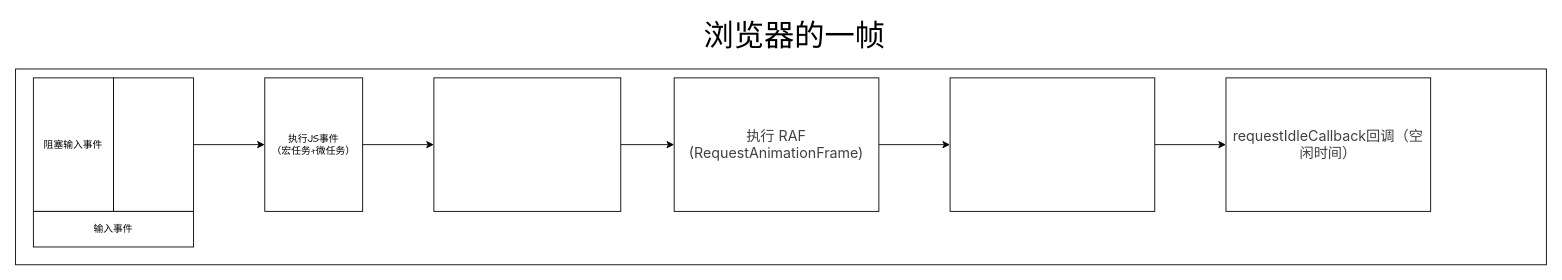
This 1562x280 diagram has some shape labels left out. Here are the shapes that lost their labels. From the top down, the centre of each, then its label:
[153,144]: 非阻塞输入事件
[527,144]: 开始帧 window.resize scroll mediaquery changed （媒体查询） animation events （动画事件）
[1052,144]: 渲染 样式计算 布局 重绘 合成
